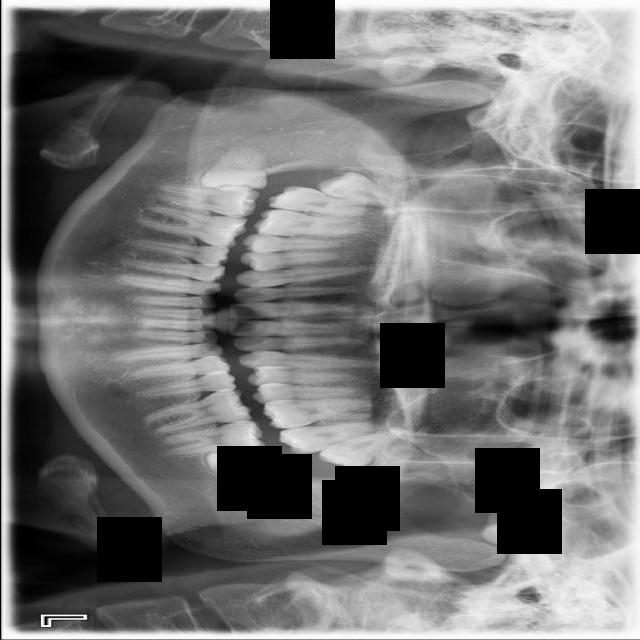3M ESPE Implant: (315, 166, 404, 209)
52: (210, 181, 261, 223), (195, 213, 250, 251)
73: (22, 620, 30, 628)
BioHorizons Implant: (277, 415, 388, 457)
BioLife Implant: (315, 424, 408, 481)
Biomet 3i Implant: (201, 447, 272, 500)
Blue Sky Bio Implant: (159, 418, 265, 460)
Caries: (265, 181, 370, 223)
Implant: (156, 172, 260, 221)
Keystone Dental Implant: (197, 144, 268, 196)
